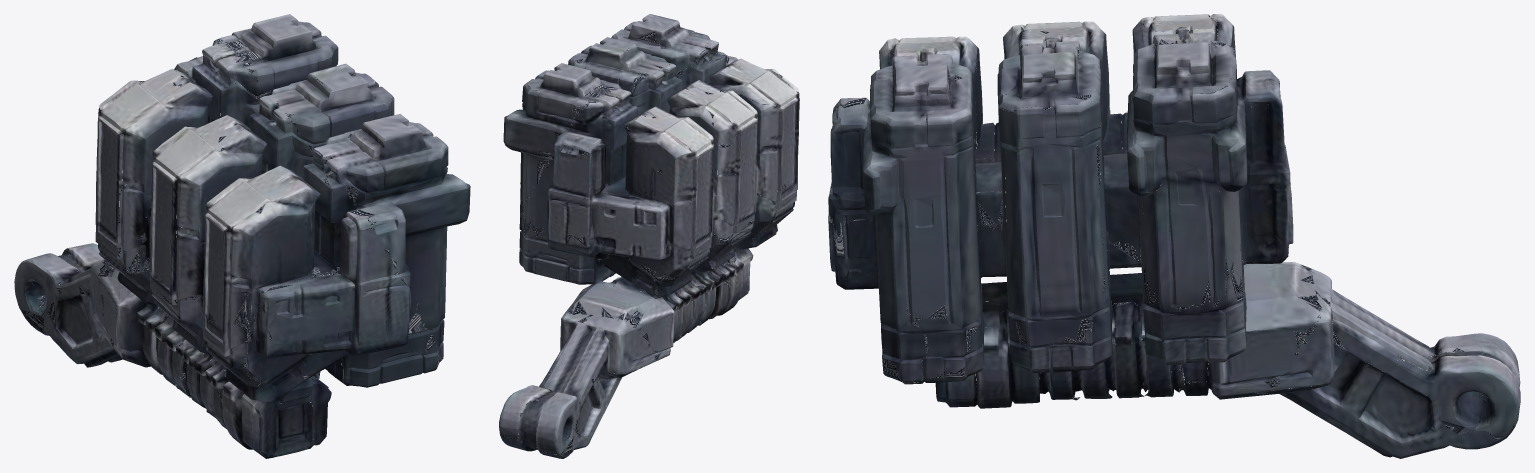
The model's file is HL_WPN_DarkGunSet_05.glb.
3 renders of one model, left to right at view 1: azimuth 30°, elevation 25°; view 2: azimuth 150°, elevation 25°; view 3: azimuth 270°, elevation 25°, orthographic. The views are drawn at different scales.
Visible parts, largest first — view 1: meshes[0]; view 2: meshes[0]; view 3: meshes[0].
Boxes of the visible parts, x1,y1,x2,y2 form: meshes[0]: (14,14,470,458); meshes[0]: (499,14,799,458); meshes[0]: (828,14,1520,458).
Bounding box in the file's own units: 0.105 × 0.1641 × 0.2289.
1 material, 1 textured.
